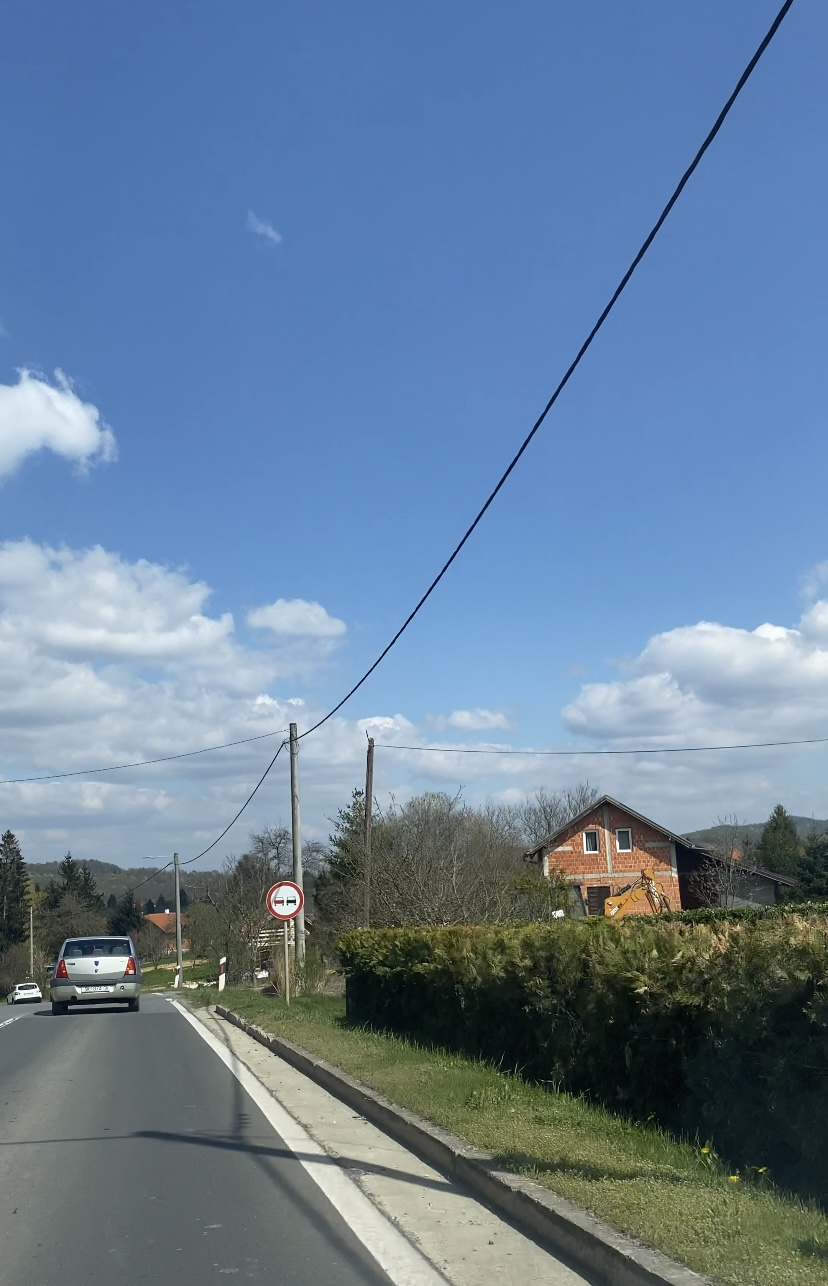Zabrana pretjecanja: (266, 881, 304, 920)
